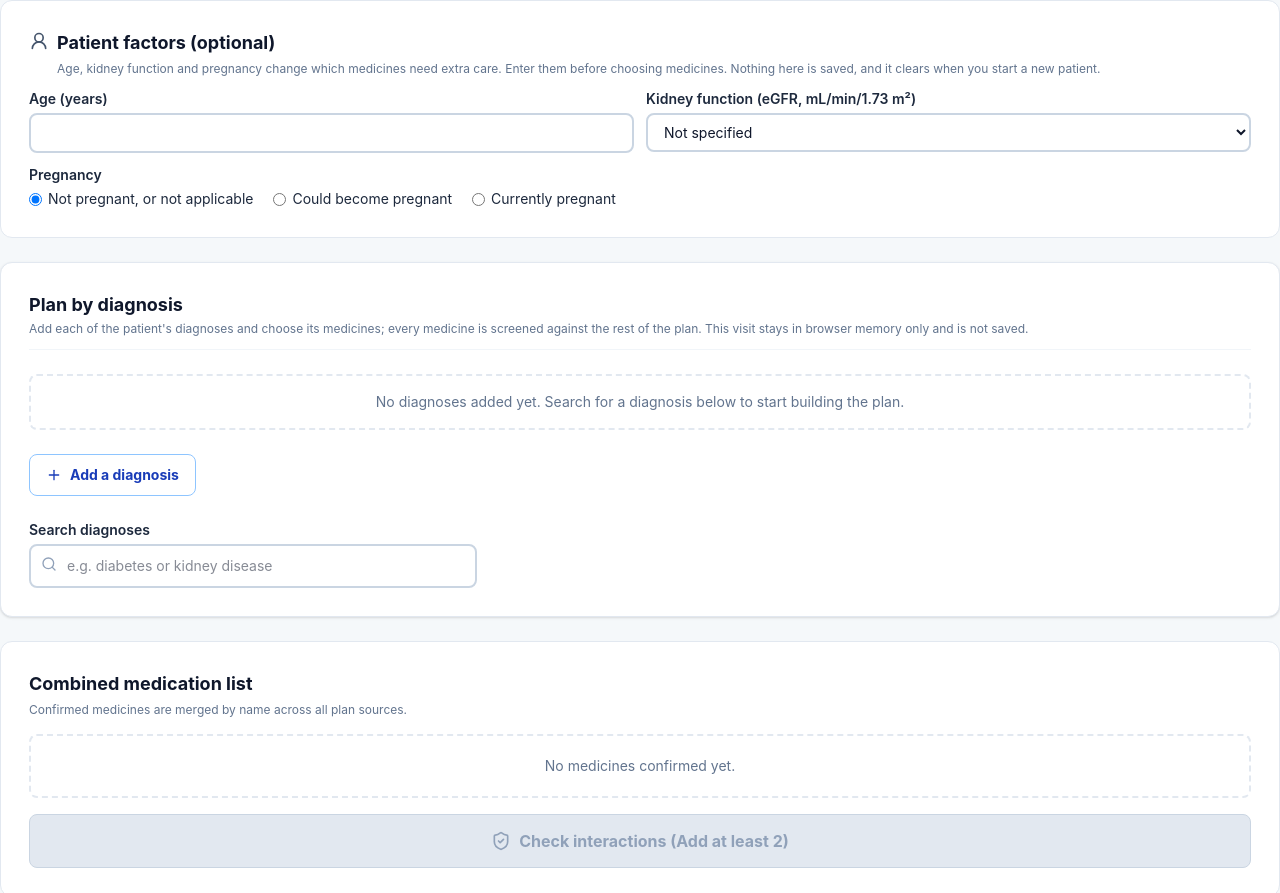
Scenario: diagnosis medication plan › shows where each medicine comes from, and closes the diagnosis list after a selection
Type "diabetes" into the dropdown labelled "Search diagnoses" at [253, 566], box [29,544,477,588]
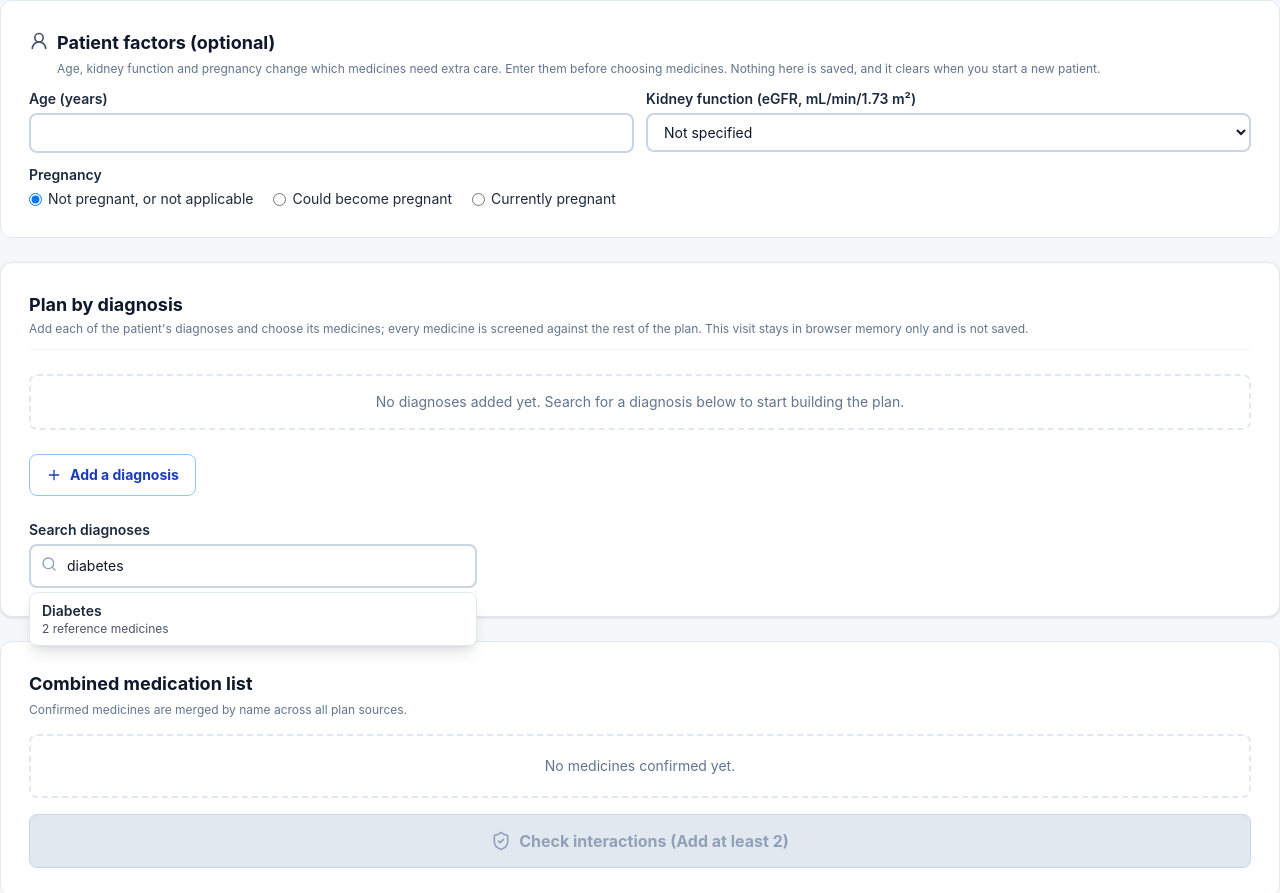
Click the option "Diabetes 2 reference medicines" at [72, 610], box [30,593,476,645]
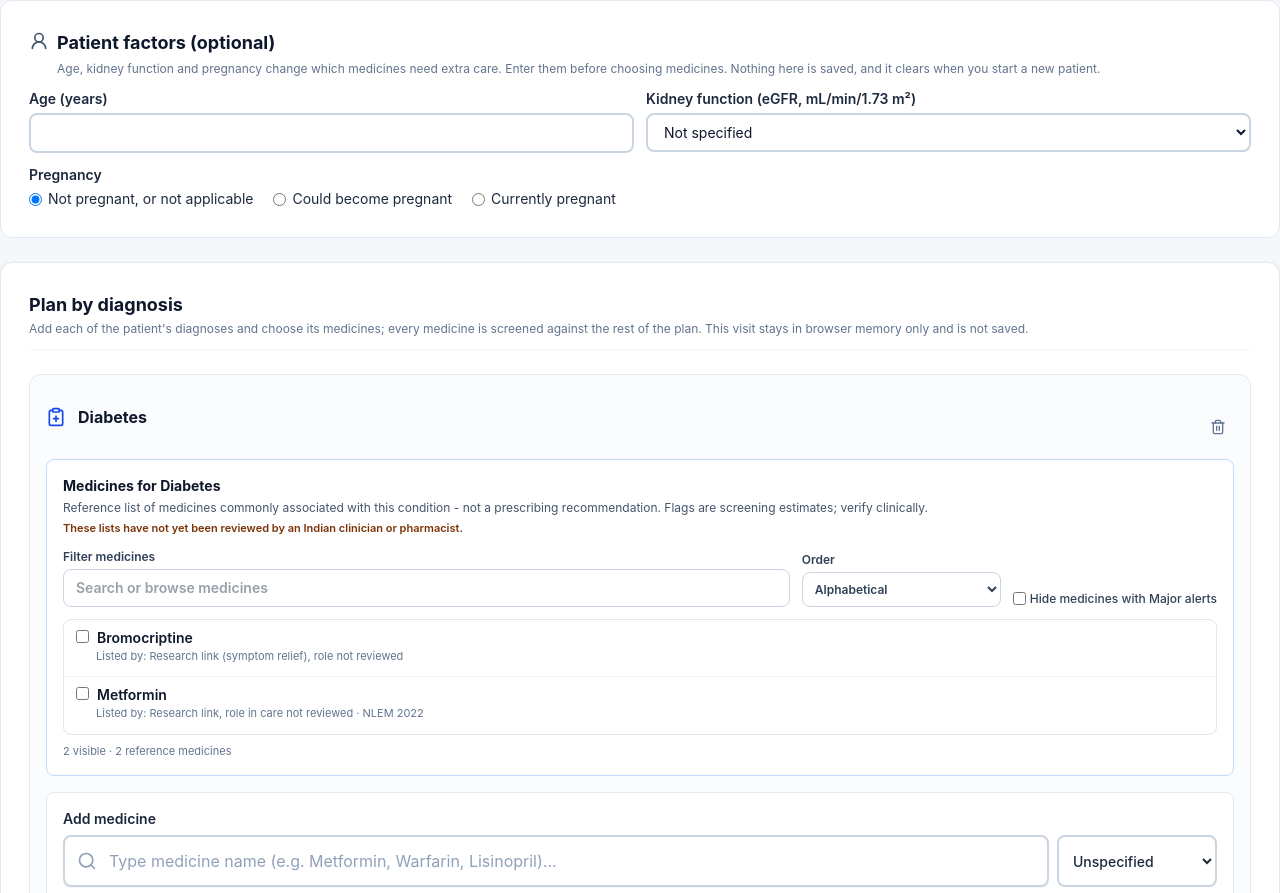
Now the text "Listed by: Research link, role in care not reviewed · NLEM 2022" is shown, box [96,706,424,720]
Now the text "Listed by: Research link (symptom relief), role not reviewed" is shown, box [96,648,403,662]
Now the list is gone
